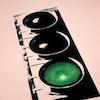green: (49, 48, 64, 64)
